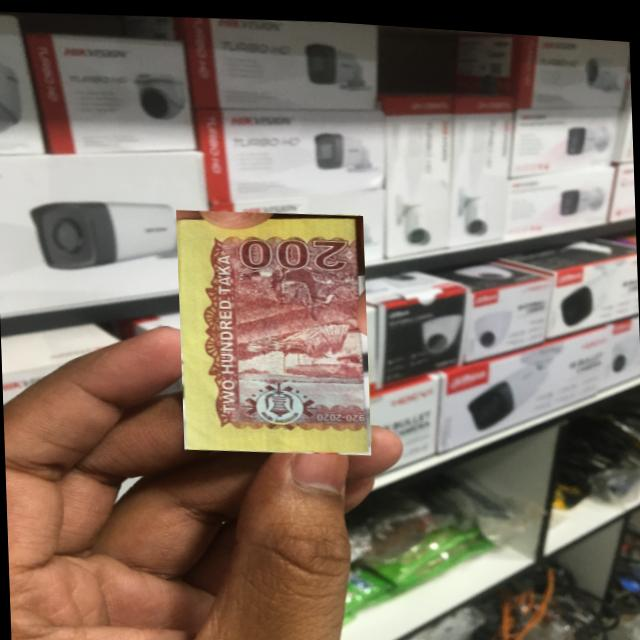Taka: (176, 201, 371, 456)
